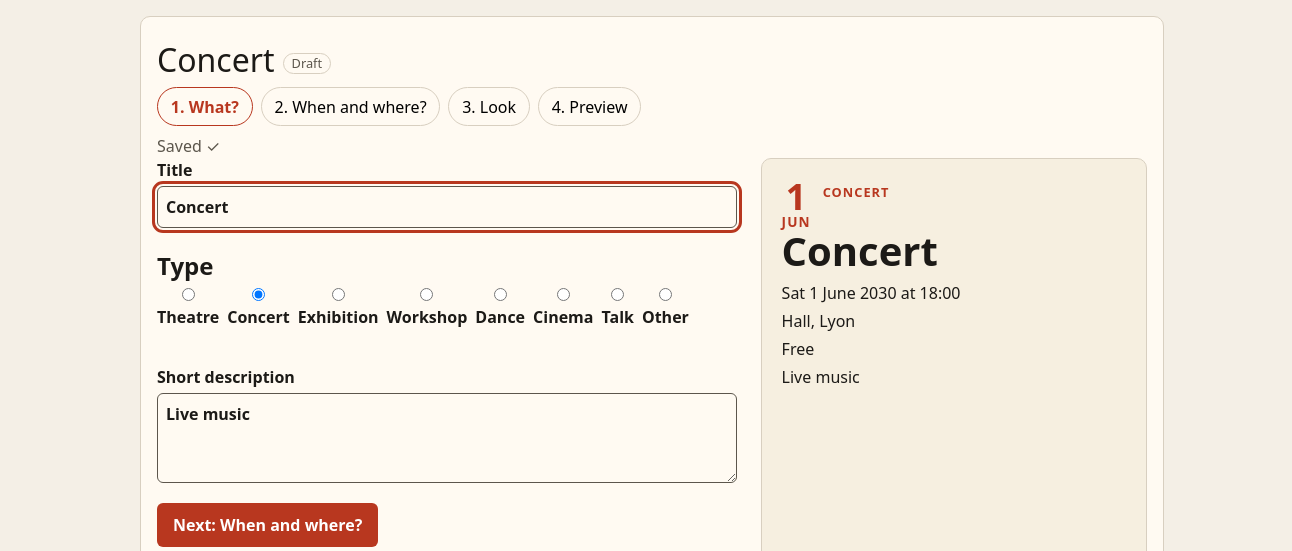
Test case: conflicts and session (UC17, UC15 *b) › CC5: a 401 keeps the input, signs in in place, never retries by itself, then saves on request
Check: the navigation bar named "Steps" is shown, box 157,87 -> 641,126
Replace the text in the field labelled "Title" with "Kept": coordinates (447, 207) 157,186 -> 737,228
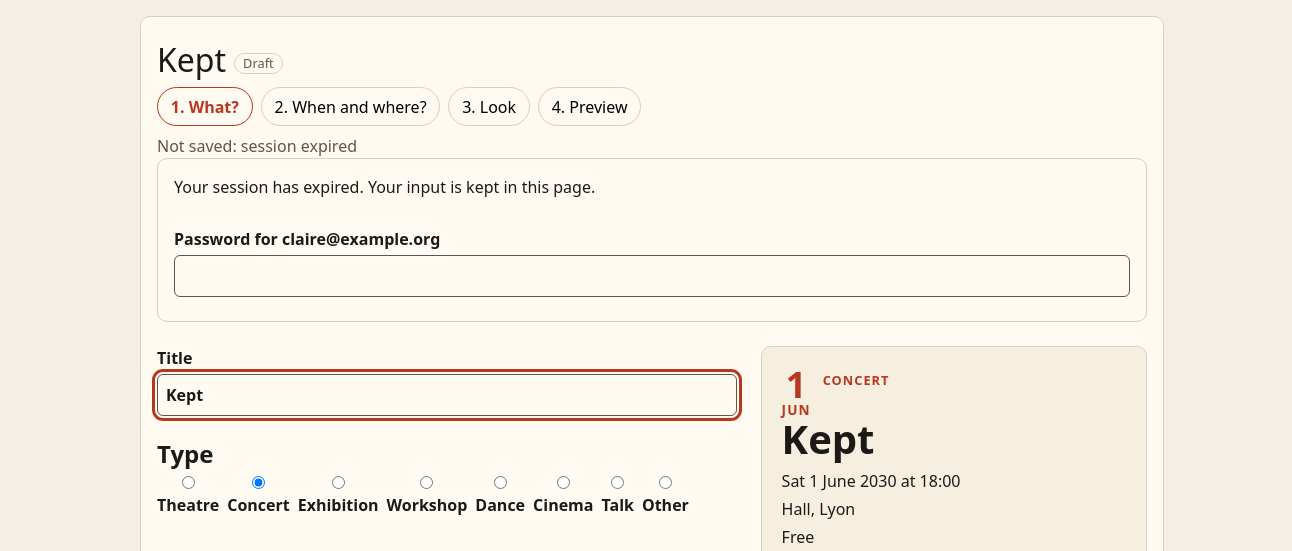
Replace the text in the field labelled "Title" with "Kept more": coordinates (447, 395) 157,374 -> 737,416
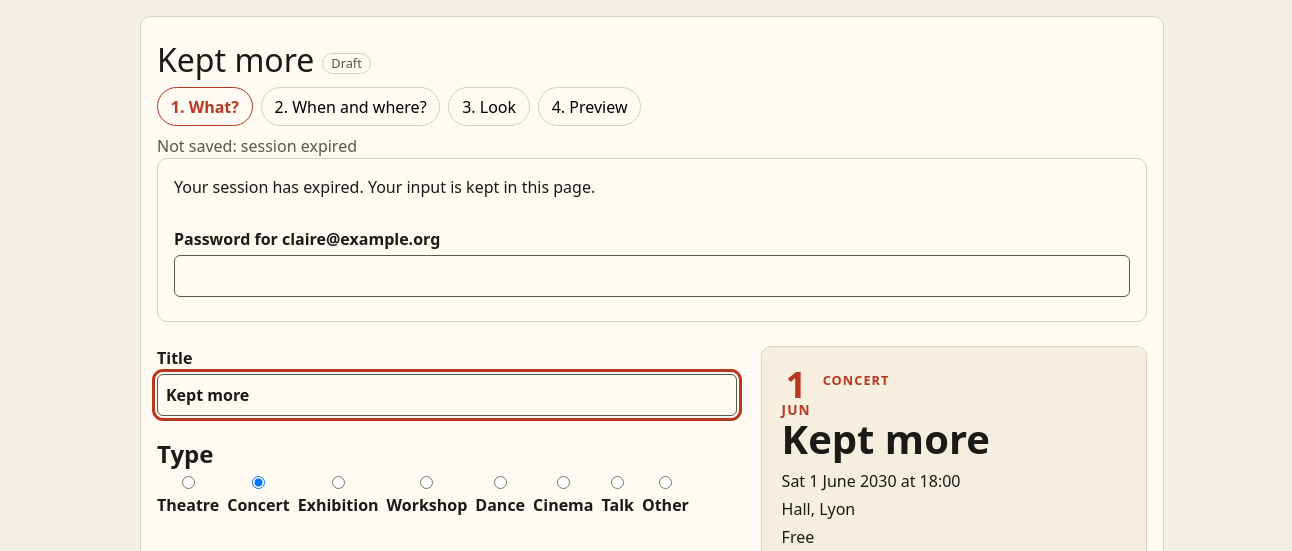
In the password field labelled "Password for claire@example.org": coordinates (652, 276) 174,255 -> 1130,297, type "a long enough passphrase"
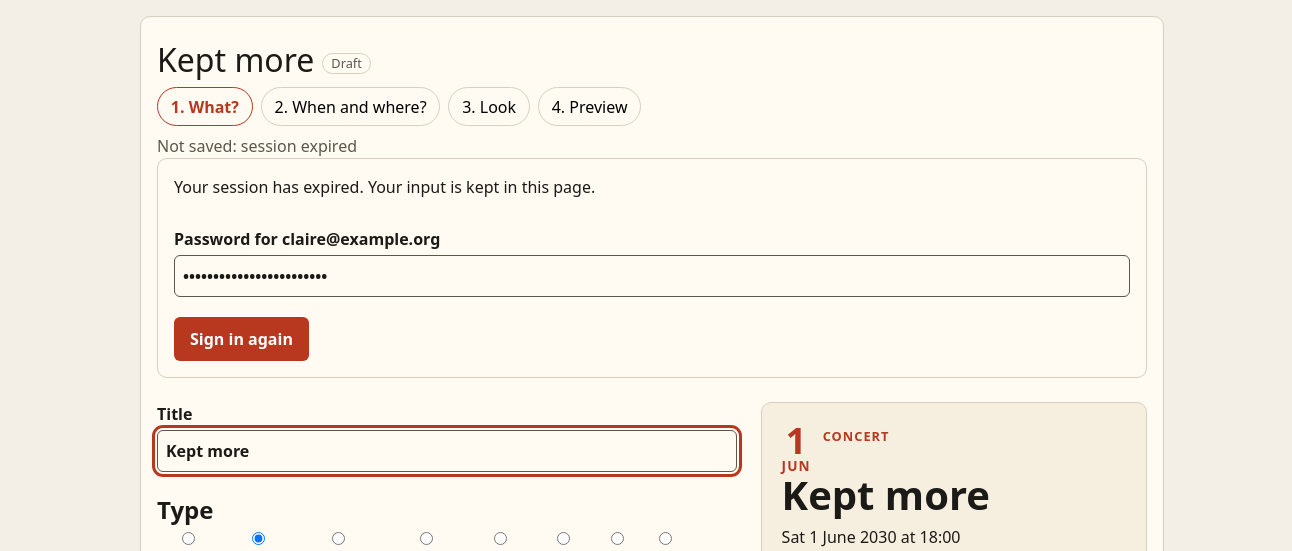
Submit the form named "Sign in again", box 157,158 -> 1147,378
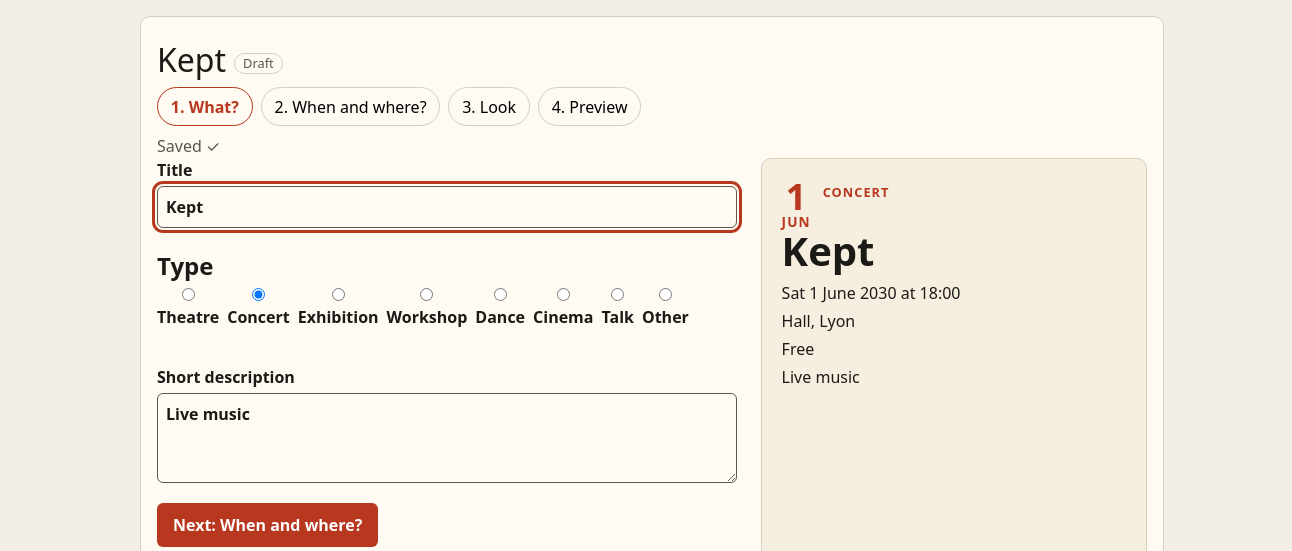
Check: the text "Saved ✓" is shown, box 157,135 -> 220,157
